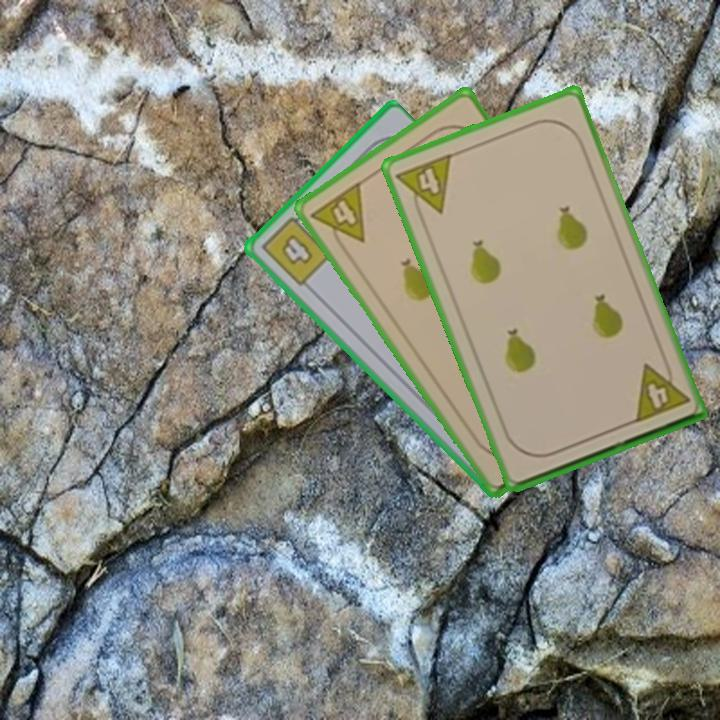4b: (257, 208, 334, 289)
4p: (306, 177, 368, 257), (392, 150, 455, 224), (630, 354, 692, 426)
